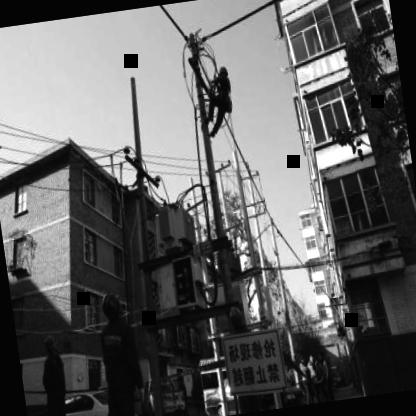helmet: (97, 288, 125, 328), (226, 304, 246, 340), (42, 329, 61, 361), (215, 63, 230, 84)
